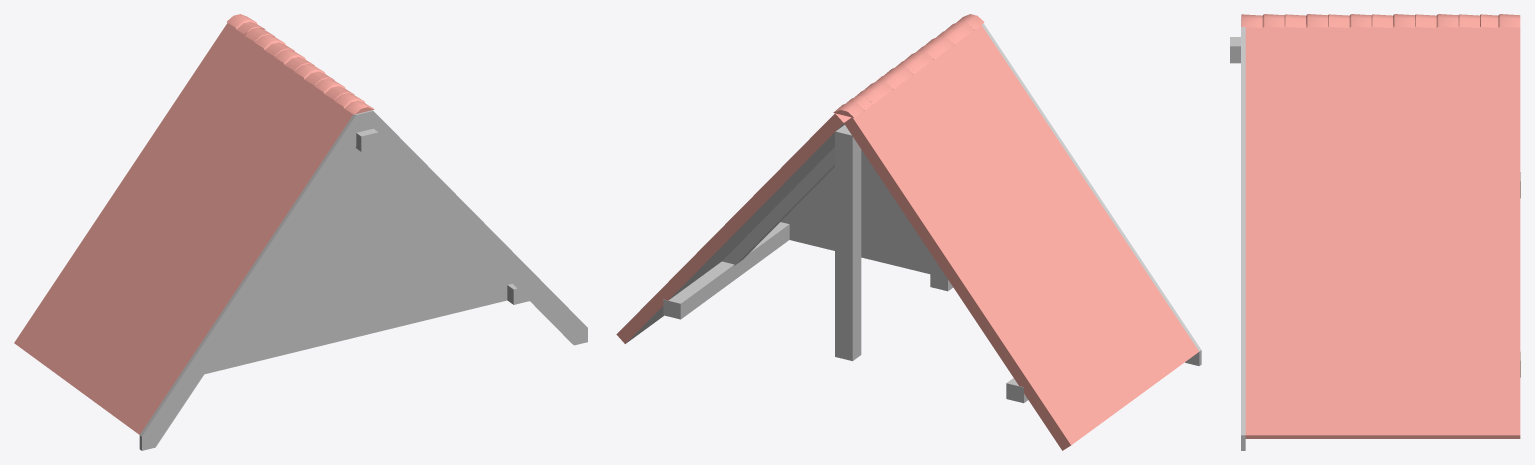
The model's file is dfk_roof_small_front.fbx.
3 views of the same model, side by side, from view 1: azimuth 30°, elevation 25°; view 2: azimuth 150°, elevation 25°; view 3: azimuth 270°, elevation 25° (orthographic). The views are drawn at different scales.
Parts seen in each view (by area): view 1: dfk_roof_small_front, dfk_wall_roof_front_01; view 2: dfk_roof_small_front, dfk_wall_roof_front_01; view 3: dfk_roof_small_front.
Boxes of the visible parts, x1=… form: dfk_roof_small_front: x1=14, y1=14, x2=587, y2=450; dfk_wall_roof_front_01: x1=205, y1=148, x2=512, y2=373; dfk_roof_small_front: x1=616, y1=14, x2=1201, y2=450; dfk_wall_roof_front_01: x1=781, y1=150, x2=930, y2=273; dfk_roof_small_front: x1=1230, y1=14, x2=1520, y2=450.
Size of the model in its own units: 6.05 by 3.75 by 3.13.
